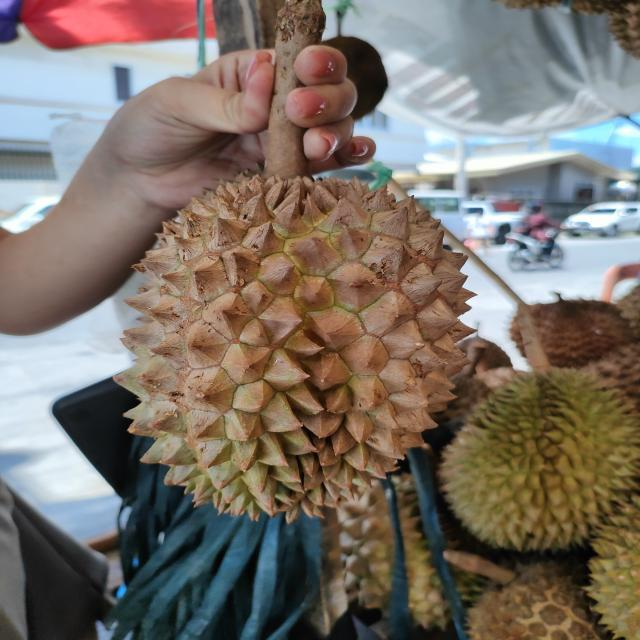mature: (120, 167, 482, 521)
